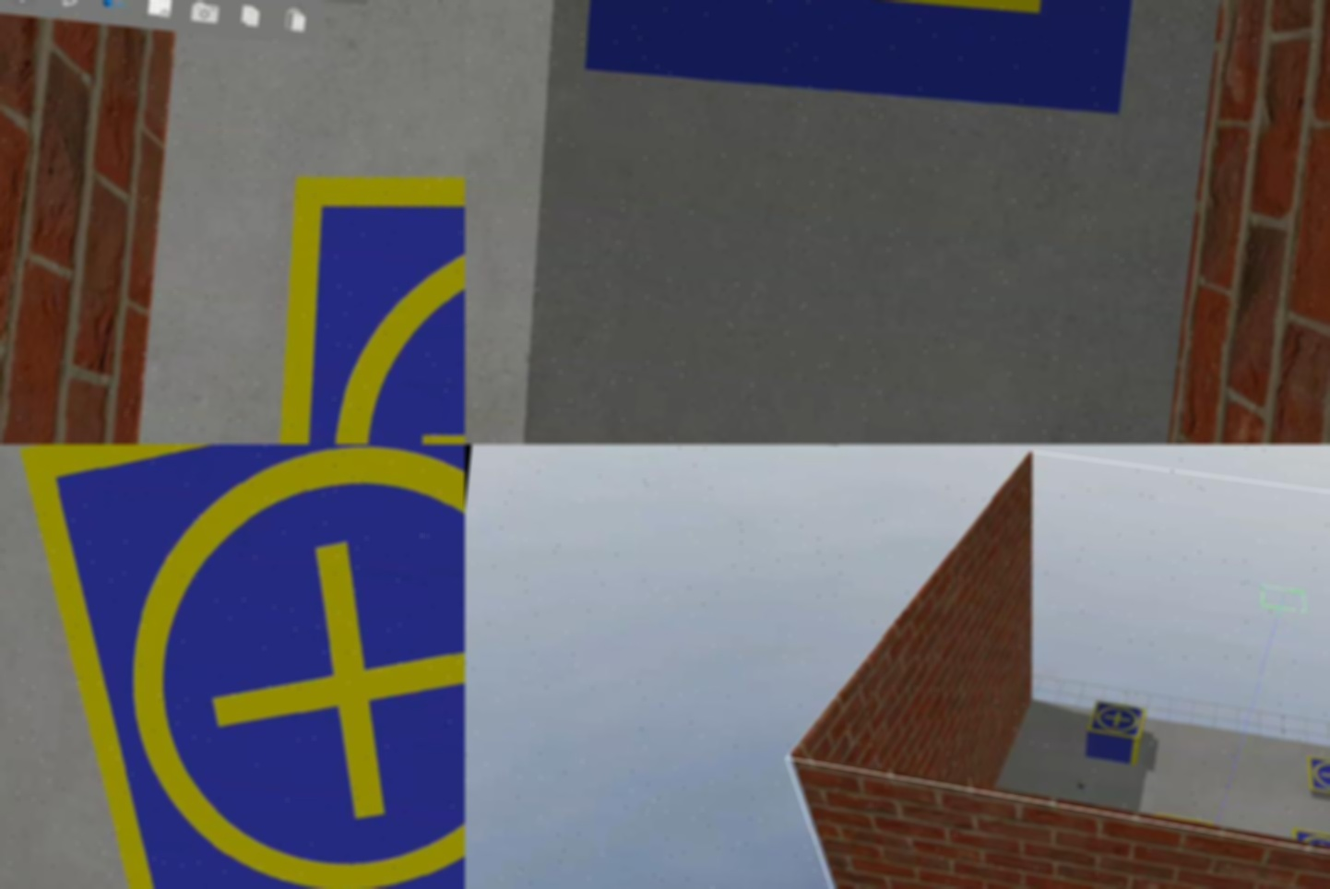large_base: (575, 1, 1153, 132)
small_base: (1, 445, 465, 889), (232, 122, 465, 445), (1087, 698, 1149, 742), (1302, 753, 1330, 802), (1292, 827, 1330, 852)
